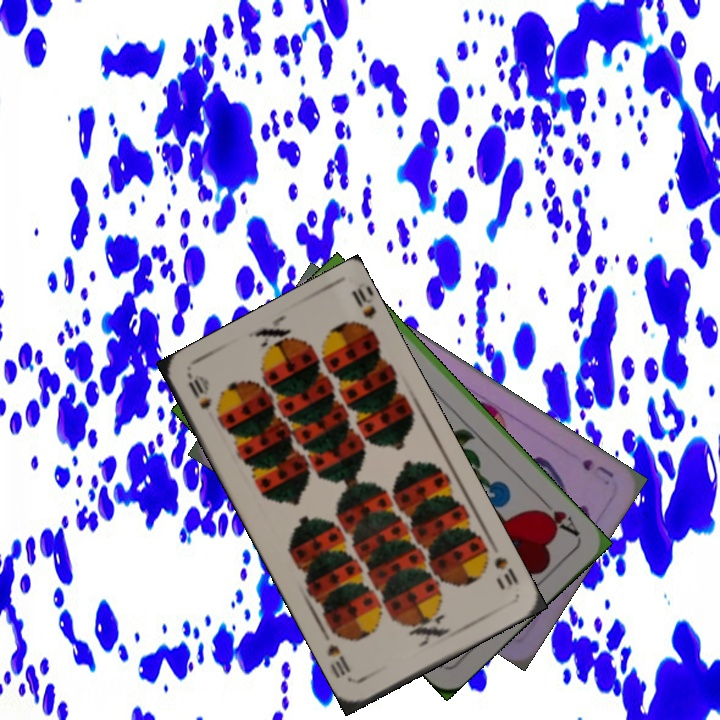HA: (533, 493, 583, 539)
S10: (478, 543, 521, 588), (184, 373, 215, 412)
SU: (578, 454, 616, 481)
